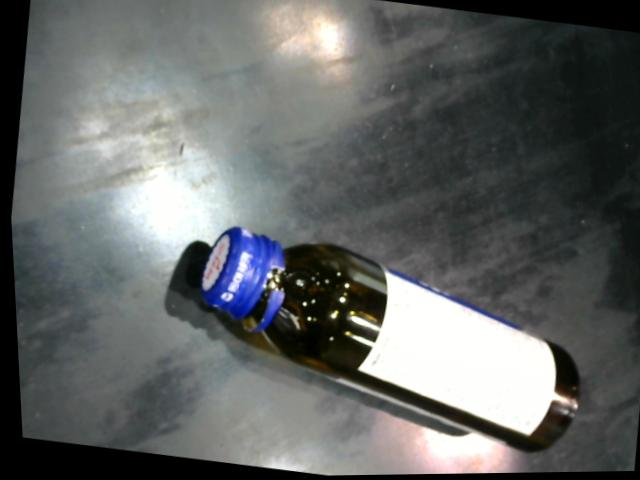glass: (176, 213, 592, 470)
